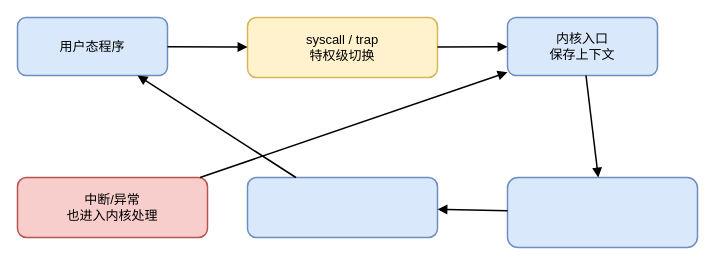
Image size: 716x266. Some labels were removed from this diagram. The shapes that lost their labels are listed below. From the top down, each one's box as (x1, y1, x2, y2) in pixels, then its label:
(246, 176, 438, 238): 恢复上下文 返回用户态
(506, 176, 698, 248): 执行内核服务 IO/调度/权限
